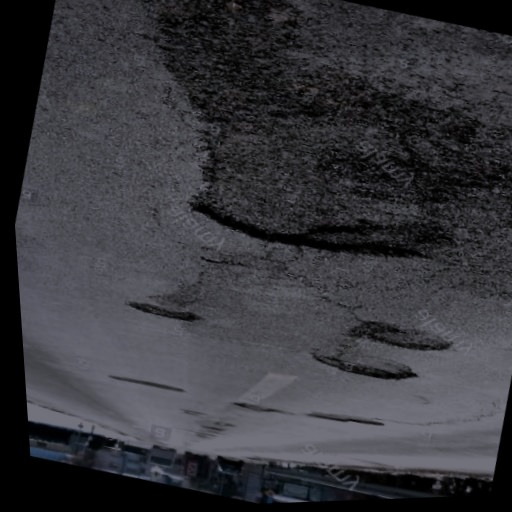pothole: (164, 30, 512, 304), (341, 309, 458, 368), (304, 340, 422, 394), (296, 400, 387, 439), (123, 296, 202, 329), (104, 371, 186, 402), (226, 396, 289, 423), (210, 418, 235, 433)
